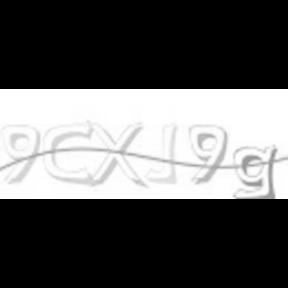9: (0, 122, 42, 188), (186, 123, 228, 183)
C: (42, 122, 96, 186)
J: (145, 120, 181, 184)
X: (86, 116, 144, 188)
g: (232, 144, 278, 199)
